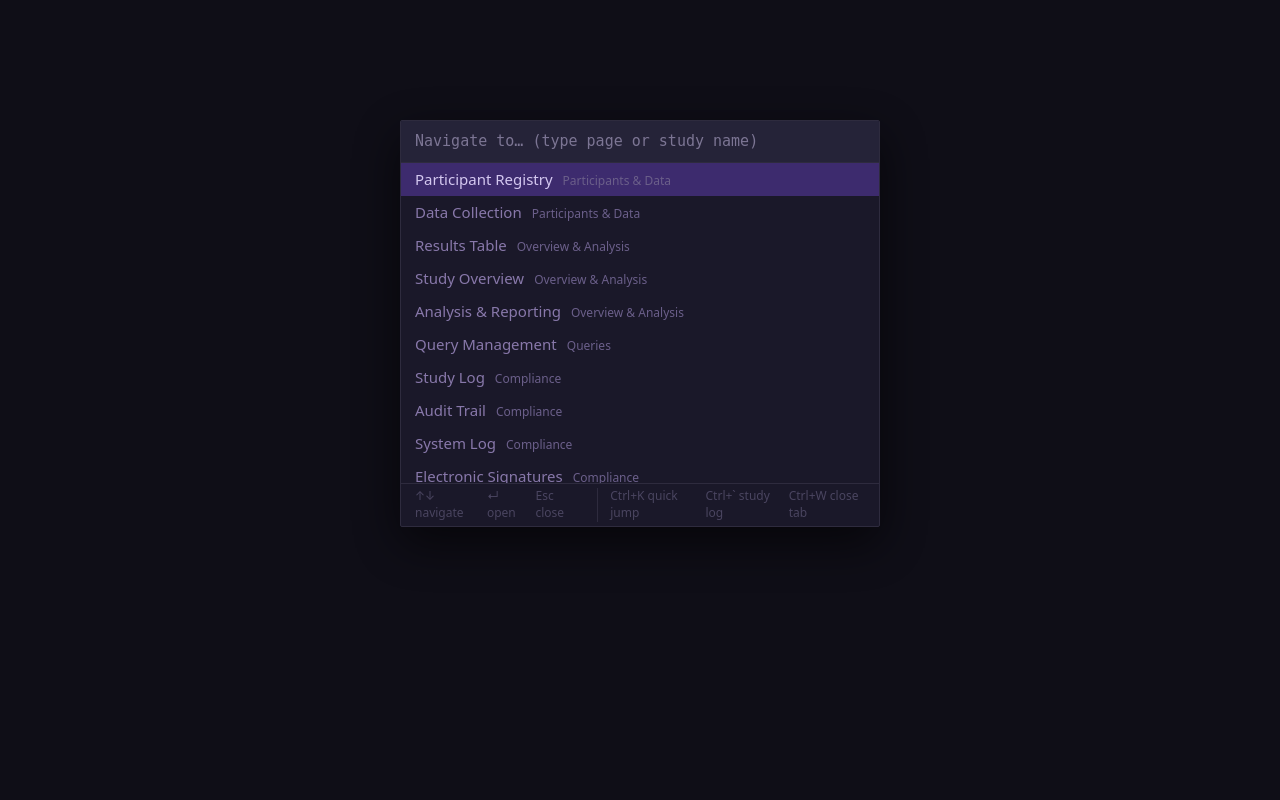
Test: CommandPalette › filters commands by description too
In the field with placeholder "Navigate to… (type page or study name)": (640, 142) [401,121,879,163], type "compliance"
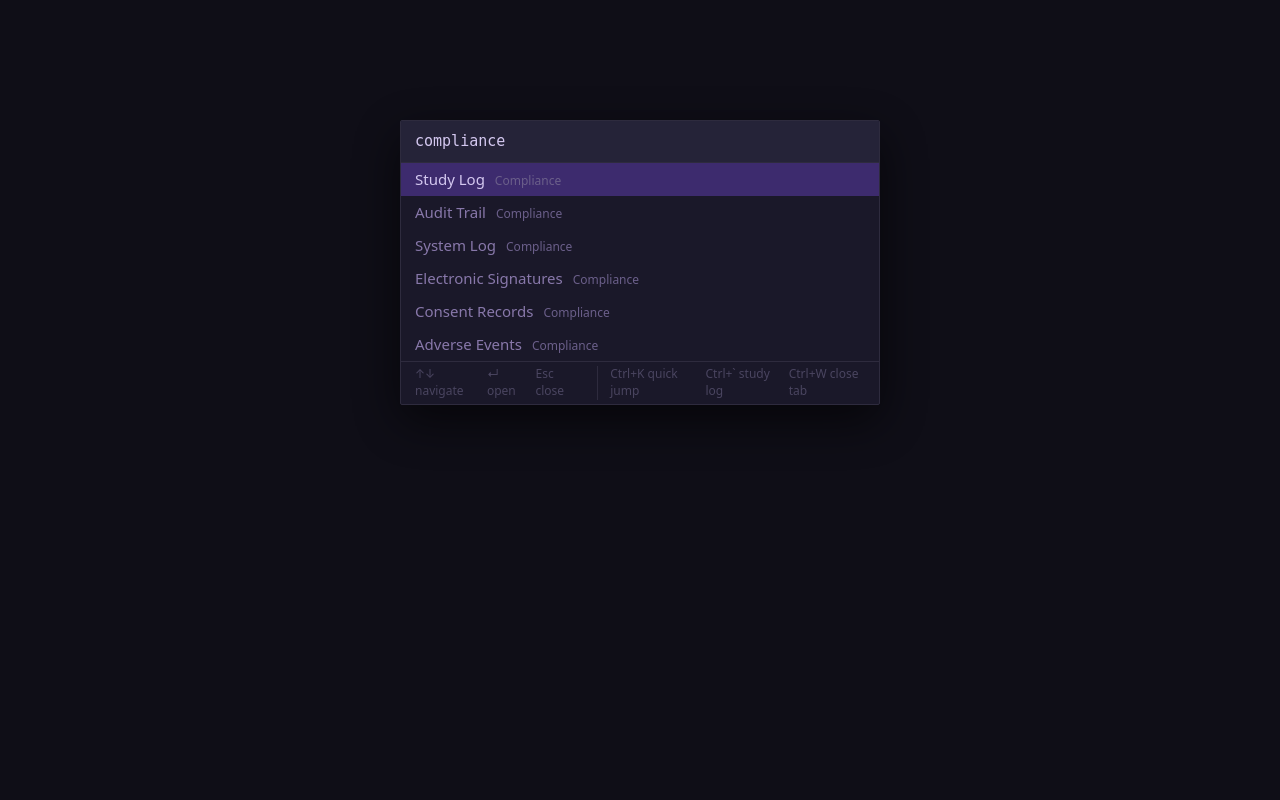
expect the text "Audit Trail" is shown: met, box [415,202,486,223]
expect the button "Participant Registry" is gone: met
